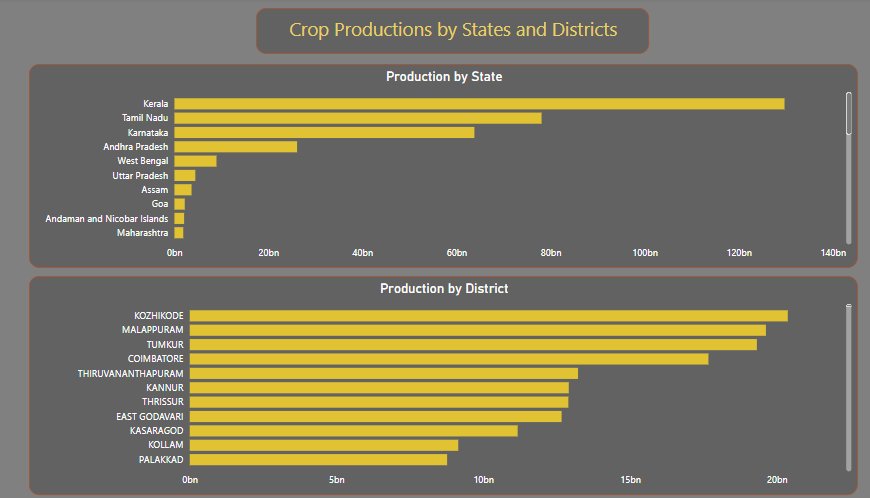

Layout of this report page (visuals, bound fields, positions):
{"tool":"powerbi","page":{"name":"Page 1","canvas":[1280,720],"ordinal":0},"visuals":[{"type":"clusteredBarChart","title":"Production by State","fields":{"Category":["India Crop Production.State"],"Y":["Sum(India Crop Production.Production)"]},"box":[54.6,94.9,1191.4,293.2],"z":0},{"type":"clusteredBarChart","title":"Production by District","fields":{"Category":["India Crop Production.District"],"Y":["Sum(India Crop Production.Production)"]},"box":[54.6,399.5,1191.4,314.7],"z":1000},{"type":"textbox","box":[380.8,14.4,564.8,66.1],"z":2000}]}

Visuals, with their boxes in screenshot pixels (x1, y1, x2, y2), scaled from the page's 1280x720 canvas onto the 870x498 screenshot:
"Production by State" clusteredBarChart: bbox=[37, 66, 847, 268]
"Production by District" clusteredBarChart: bbox=[37, 276, 847, 494]
textbox: bbox=[259, 10, 643, 56]
